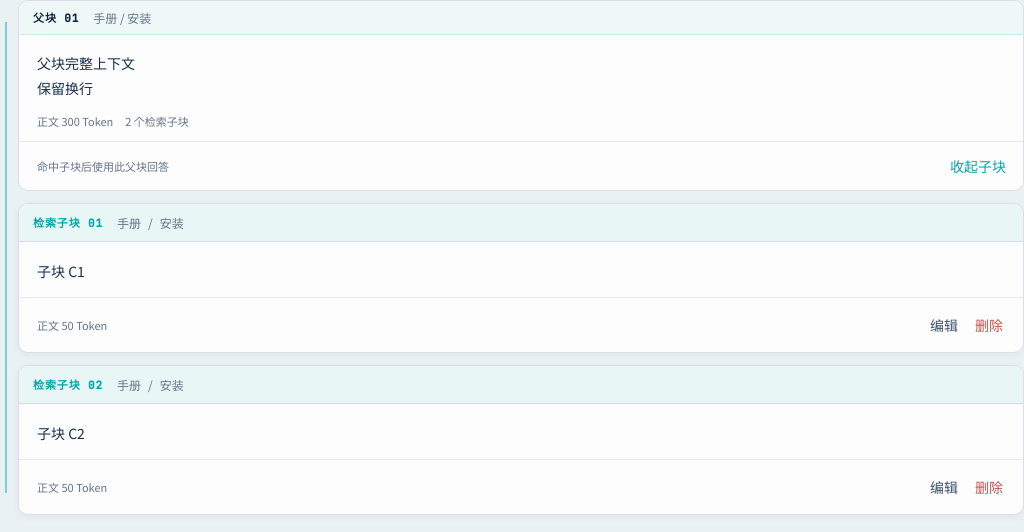
Test: ParentChunkGroup › forwards every child event and payload unchanged while allowing collapse
The image size is (1024, 532).
What coordinates should you click on to do the following:
click the button with test id "toggle-parent"
I would click on:
 (978, 166)
Its box is 947,146 -> 1009,186.
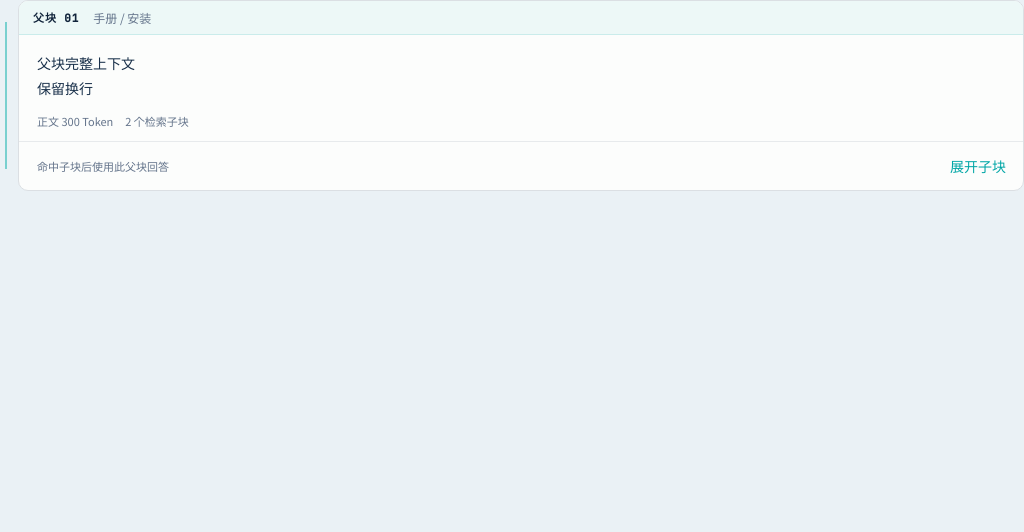
Now the button with test id "toggle-parent" is collapsed, box 947,146 -> 1009,186
